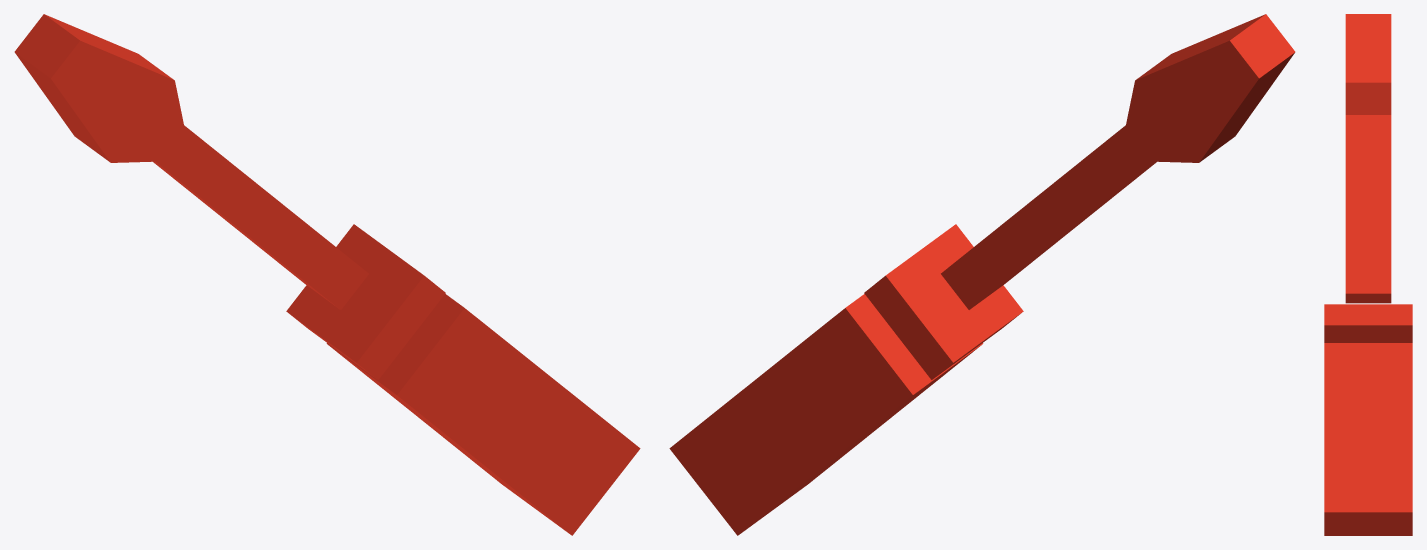
The model's file is Icon_Repair_03.fbx.
3 views of the same model, side by side, from view 1: azimuth 30°, elevation 25°; view 2: azimuth 150°, elevation 25°; view 3: azimuth 270°, elevation 25° (orthographic). The views are drawn at different scales.
Parts seen in each view (by area): view 1: Icon_Repair_03; view 2: Icon_Repair_03; view 3: Icon_Repair_03.
Part boxes in pixels (x1=…): Icon_Repair_03: x1=14, y1=14, x2=640, y2=535; Icon_Repair_03: x1=669, y1=14, x2=1295, y2=535; Icon_Repair_03: x1=1324, y1=14, x2=1412, y2=535.
Bounding box in the file's own units: 56.66 × 56.61 × 12.06.
